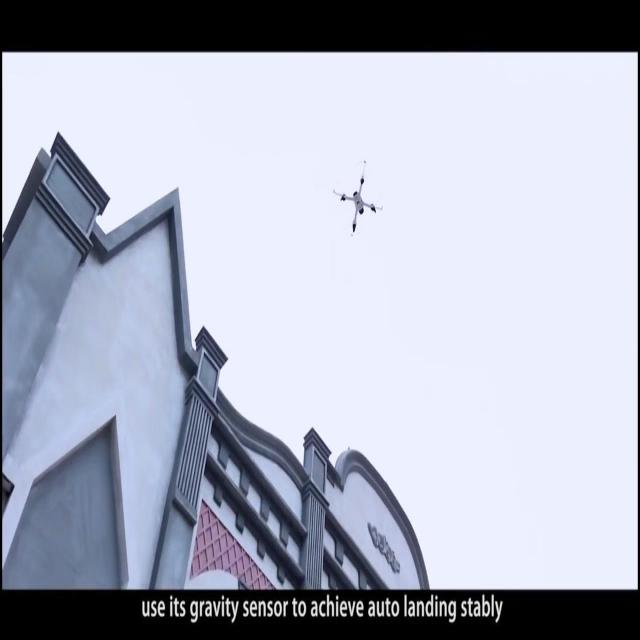UAV: (333, 161, 383, 236)
